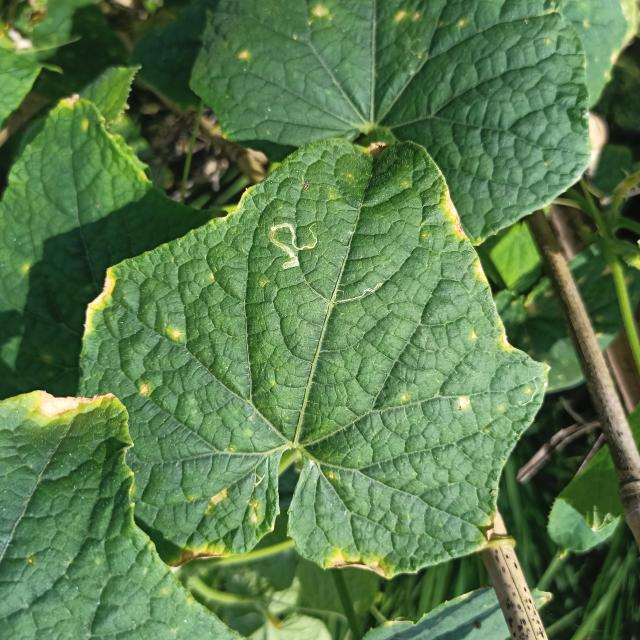disease_cucumber: (201, 483, 262, 527), (470, 325, 512, 356), (456, 392, 471, 410), (137, 381, 153, 397), (168, 326, 184, 342)
